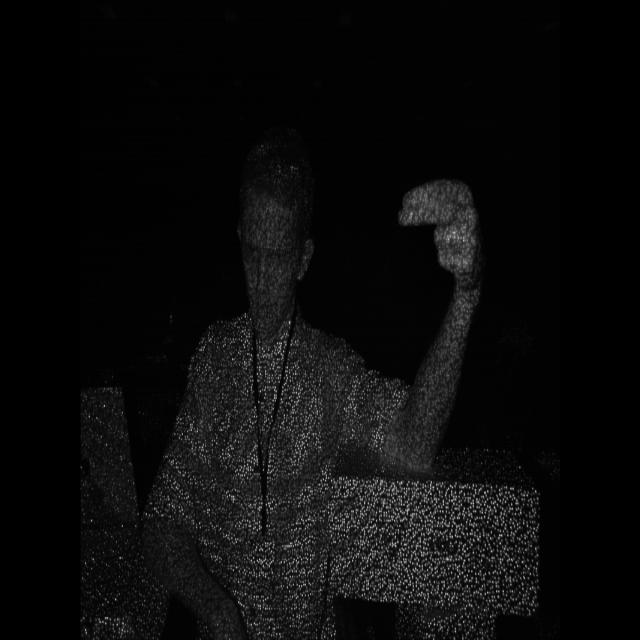H: (388, 169, 502, 318)
